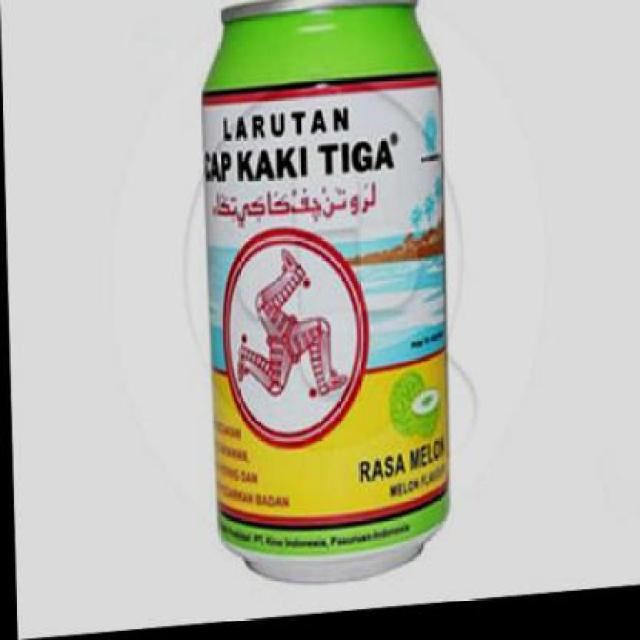Metal: (200, 1, 456, 569)
